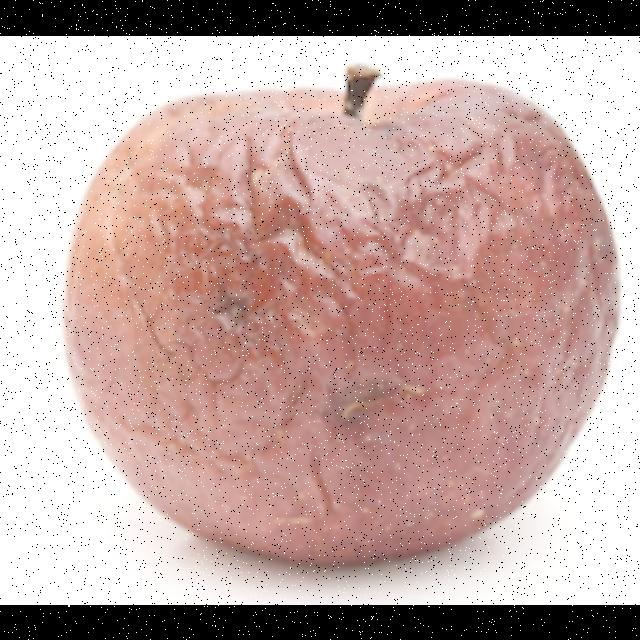Apel Tidak Segar: (58, 36, 640, 604)
